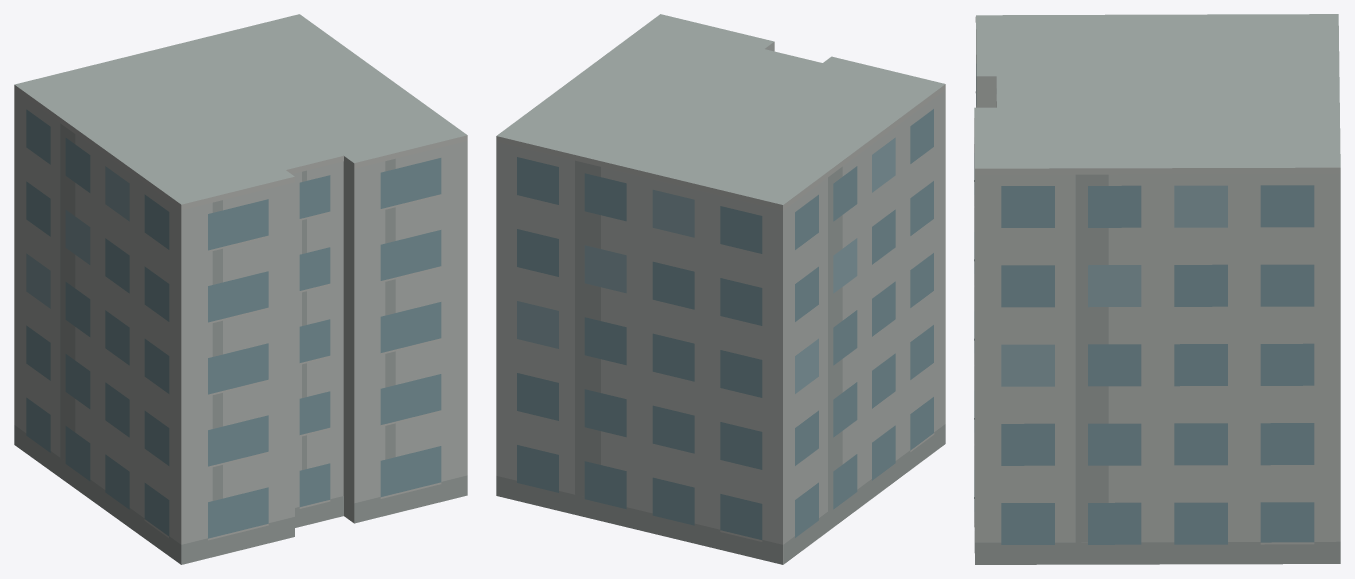
File: survey-upis-32550158.glb
3 renders of one model, left to right at view 1: azimuth 30°, elevation 25°; view 2: azimuth 150°, elevation 25°; view 3: azimuth 270°, elevation 25°, orthographic. The views are drawn at different scales.
Parts seen in each view (by area): view 1: survey-upis-32550158.tmp; view 2: survey-upis-32550158.tmp; view 3: survey-upis-32550158.tmp.
Part boxes in pixels (x1=…): survey-upis-32550158.tmp: x1=14, y1=14, x2=467, y2=564; survey-upis-32550158.tmp: x1=496, y1=14, x2=945, y2=564; survey-upis-32550158.tmp: x1=974, y1=14, x2=1340, y2=564.
Bounding box in the file's own units: 13.03 × 15.55 × 13.04.
